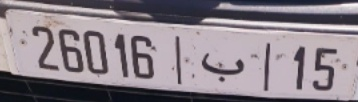0: (84, 29, 108, 76)
1: (112, 32, 129, 79), (293, 41, 306, 91)
2: (30, 26, 59, 70)
5: (312, 44, 337, 91)
6: (58, 27, 86, 74), (130, 33, 154, 80)
b: (200, 50, 246, 84)
